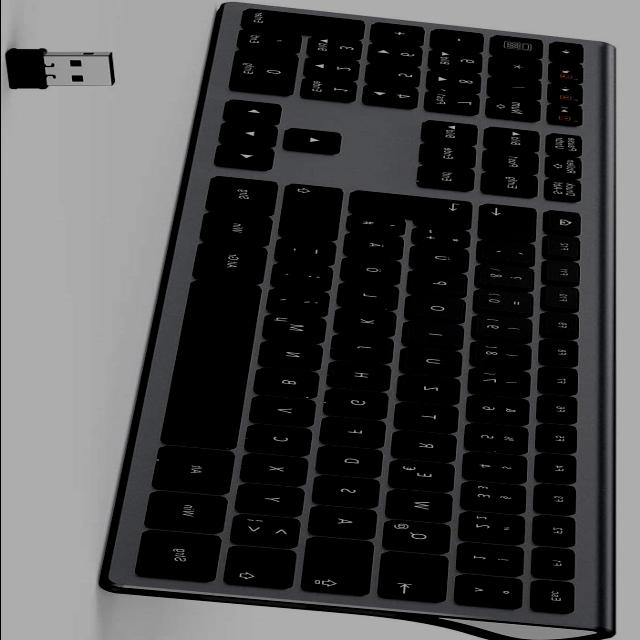0: (478, 291, 540, 317)
1: (462, 545, 530, 576)
2: (464, 514, 532, 544)
3: (466, 483, 532, 514)
4: (469, 454, 535, 483)
5: (470, 425, 534, 454)
6: (471, 397, 535, 425)
7: (473, 370, 537, 397)
8: (475, 343, 538, 369)
9: (477, 317, 539, 343)
a: (315, 508, 383, 538)
accent: (483, 242, 543, 266)
ae: (349, 235, 410, 260)
alt-left: (159, 447, 241, 495)
altgr-right: (199, 244, 273, 284)
b: (260, 370, 326, 398)
c: (251, 426, 317, 456)
caret: (461, 576, 529, 609)
comma: (273, 291, 337, 317)
d: (321, 447, 389, 477)
del: (485, 207, 543, 242)
e: (394, 461, 462, 491)
enter: (354, 193, 480, 231)
f: (326, 419, 392, 447)
g: (330, 390, 394, 419)
h: (334, 363, 397, 391)
hash: (352, 216, 412, 236)
i: (409, 323, 471, 349)
j: (337, 337, 401, 363)
k: (339, 310, 403, 337)
keyboard: (93, 2, 631, 632)
l: (343, 284, 406, 310)
less: (236, 516, 307, 548)
m: (269, 317, 333, 343)
minus: (281, 240, 342, 266)
n: (265, 343, 329, 371)
o: (411, 297, 472, 323)
oe: (346, 259, 407, 285)
p: (413, 271, 474, 297)
plus: (417, 230, 477, 249)
point: (278, 265, 339, 291)
q: (387, 522, 457, 554)
r: (397, 433, 463, 461)
s: (318, 477, 386, 507)
shift-left: (229, 548, 302, 590)
shift-lock: (307, 538, 379, 596)
shift-right: (286, 187, 350, 241)
space: (169, 280, 265, 450)
ss: (481, 266, 541, 292)
strg-left: (140, 531, 226, 584)
strg-right: (212, 178, 284, 216)
t: (401, 404, 465, 432)
tab: (383, 554, 454, 603)
u: (405, 349, 469, 376)
ue: (415, 247, 475, 272)
v: (256, 397, 322, 426)
w: (391, 492, 459, 523)
x: (248, 455, 314, 485)
y: (241, 486, 311, 516)
z: (403, 376, 467, 404)
